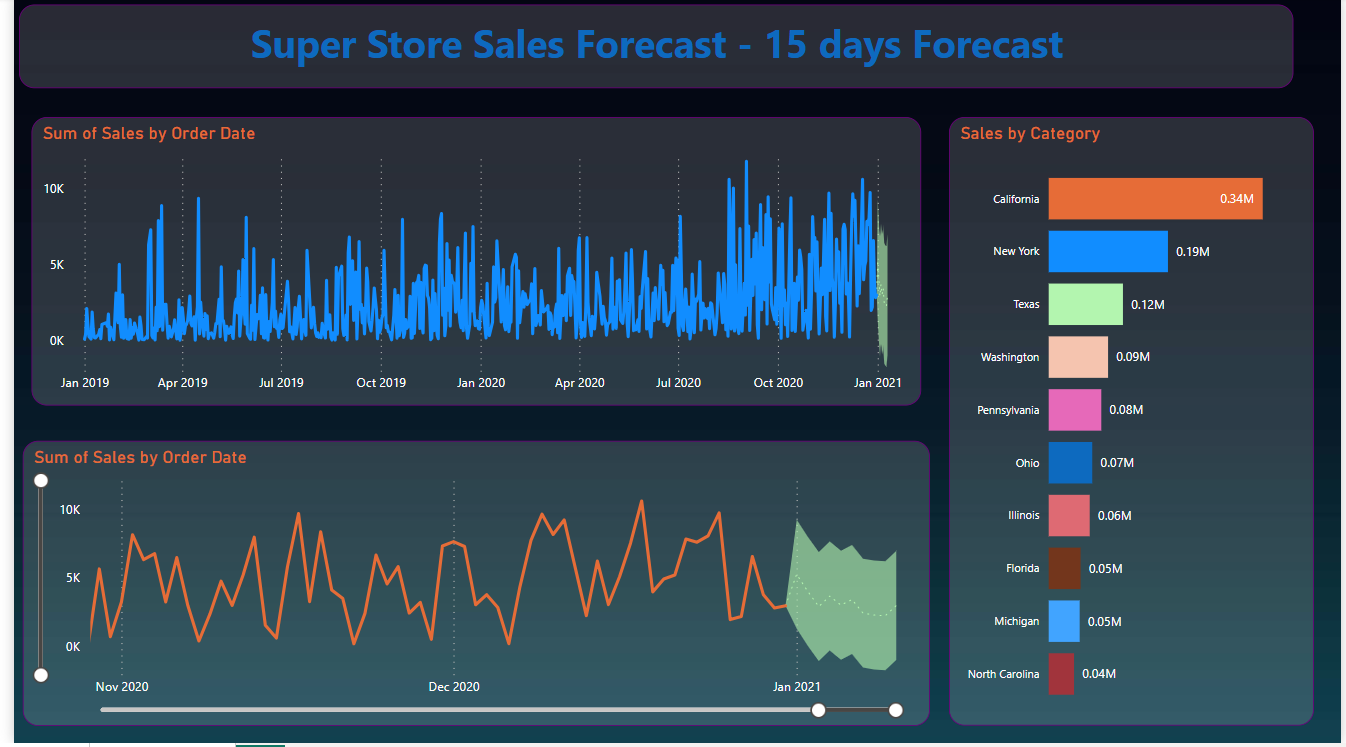

This screenshot's page, from the dashboard's own definition file:
{"tool":"powerbi","page":{"name":"Sales Forecast","canvas":[1280,720],"ordinal":1},"visuals":[{"type":"lineChart","fields":{"Y":["Sum(SuperStore_Sales_Dataset.Sales)"],"Category":["SuperStore_Sales_Dataset.Order Date"]},"box":[16.9,115.8,858.7,278.6],"z":0},{"type":"lineChart","fields":{"Y":["Sum(SuperStore_Sales_Dataset.Sales)"],"Category":["SuperStore_Sales_Dataset.Order Date"]},"box":[8.4,428.1,875.6,275],"z":1},{"type":"clusteredBarChart","title":"Sales by Category","fields":{"Y":["Sum(SuperStore_Sales_Dataset.Sales)"],"Category":["SuperStore_Sales_Dataset.State"]},"box":[902.1,115.8,352.2,587.3],"z":2},{"type":"textbox","box":[4.9,7.3,1229.7,80.7],"z":3}]}

Visuals, with their boxes in screenshot pixels (x1, y1, x2, y2), scaled from the page's 1280x720 canvas onto the 1346x747 screenshot:
lineChart - Sum(SuperStore_Sales_Dataset.Sales) x SuperStore_Sales_Dataset.Order Date: (18,120,921,409)
lineChart - Sum(SuperStore_Sales_Dataset.Sales) x SuperStore_Sales_Dataset.Order Date: (9,444,930,729)
"Sales by Category" clusteredBarChart: (949,120,1319,729)
textbox: (5,8,1298,91)
